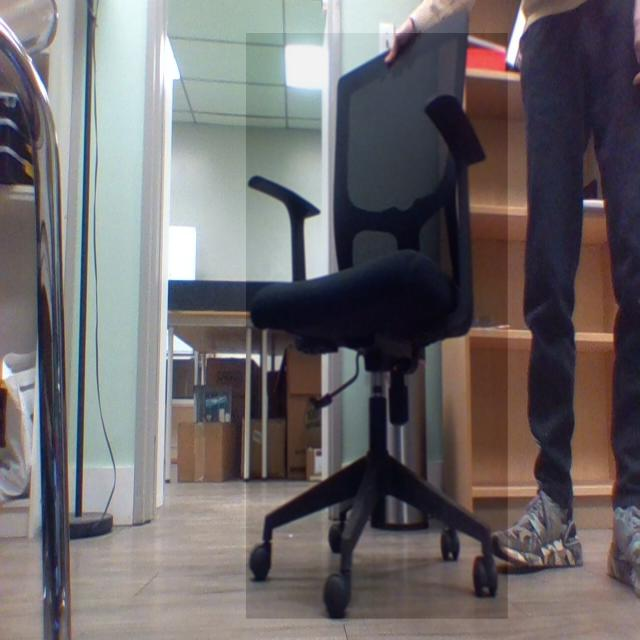black-chair: (246, 33, 509, 620)
